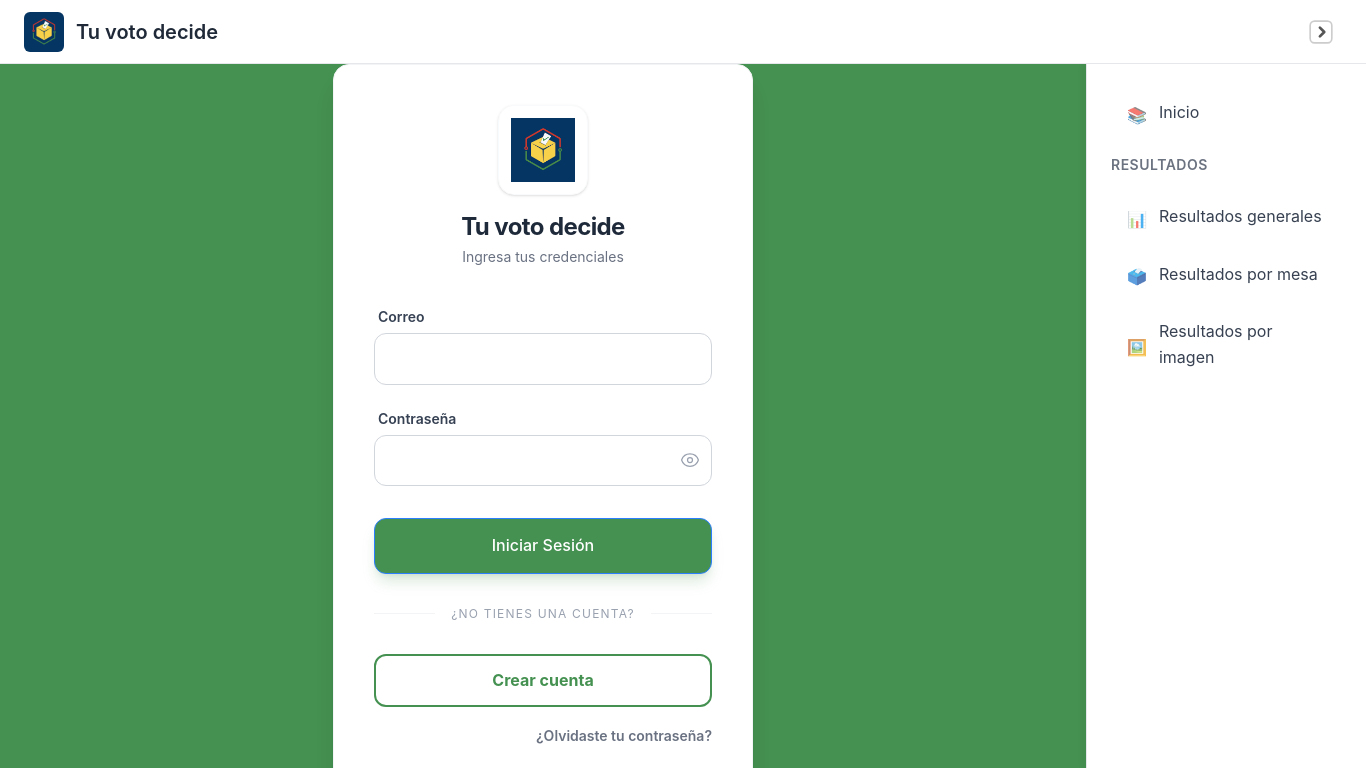
Test: Autenticación › Debería mostrar un error con credenciales incorrectas
Type "usuario@incorrecto.com" into the field named "email" at (543, 359), box [374, 333, 712, 385]
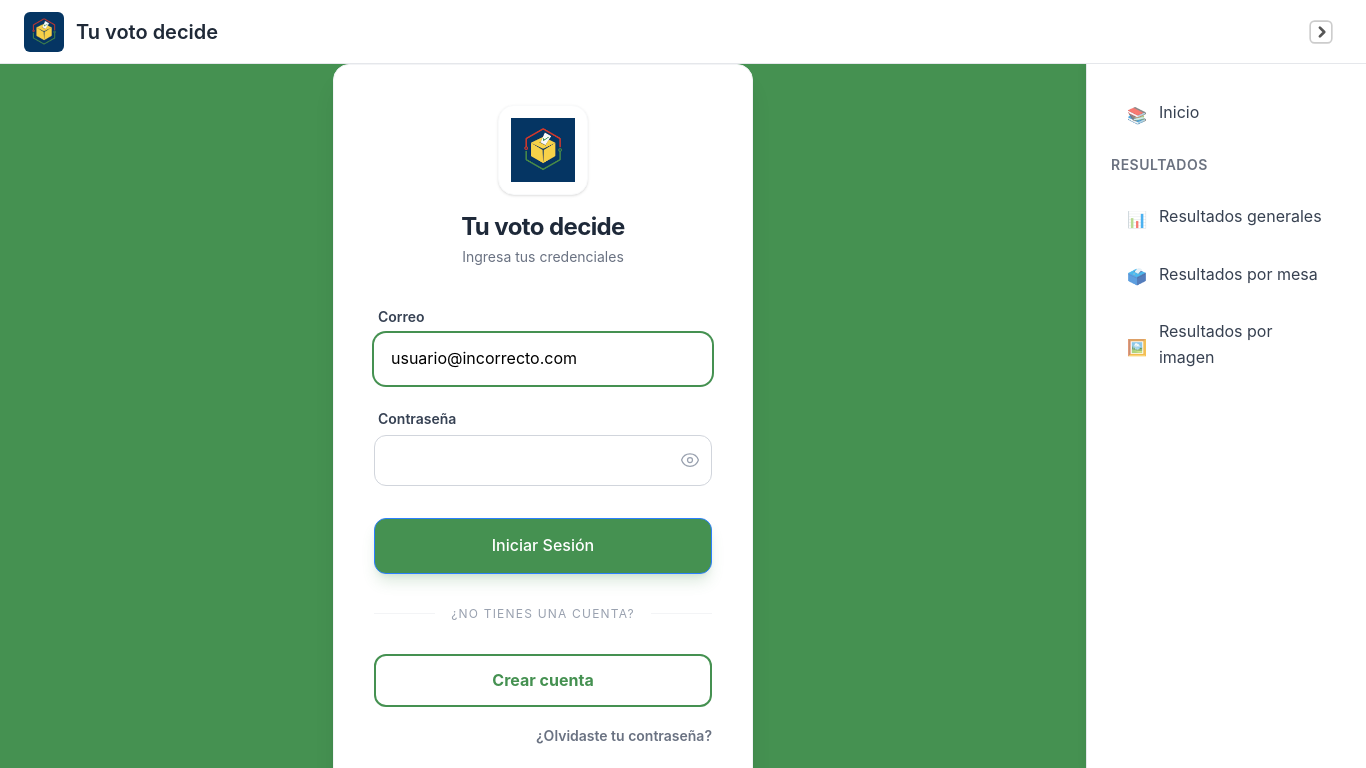
Type "123456" into the password field named "password" at (543, 461), box [374, 435, 712, 487]
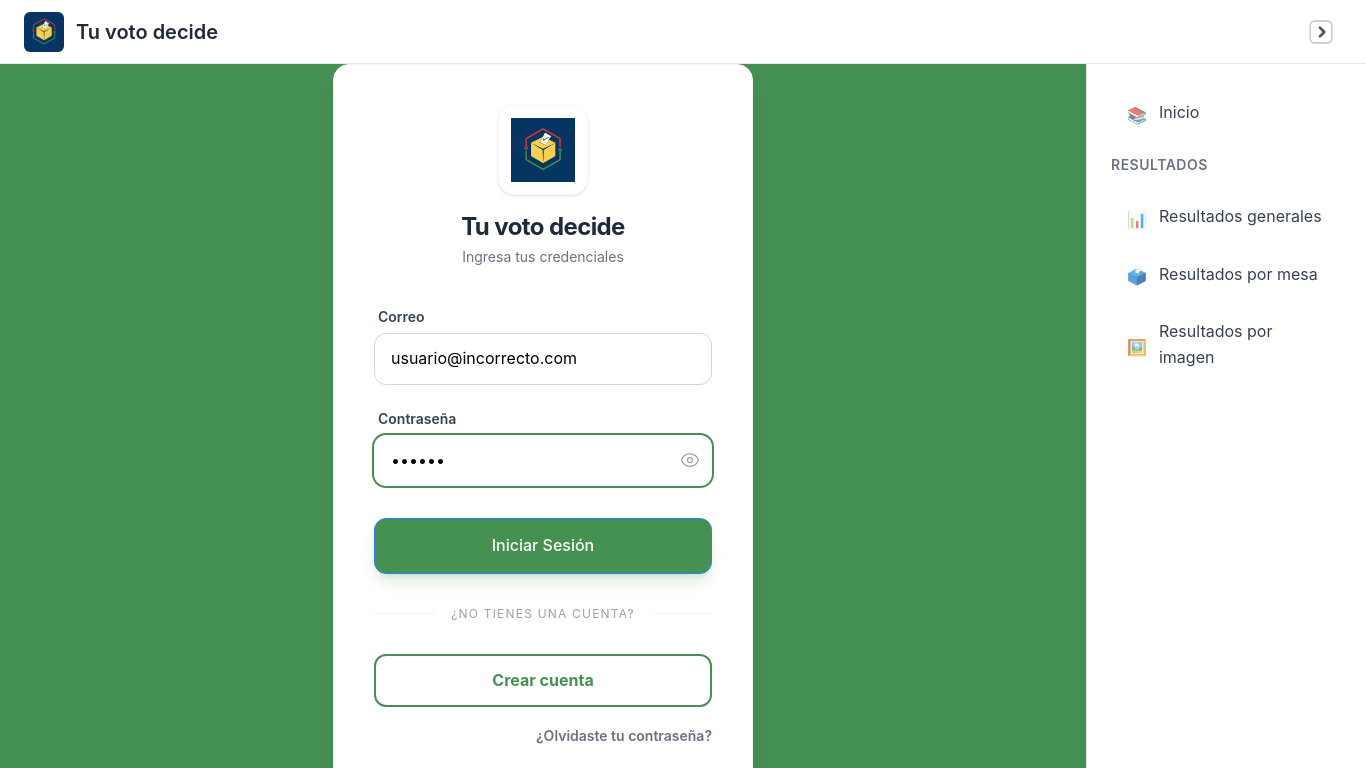
Click the submit button at (543, 546), box [374, 518, 712, 574]
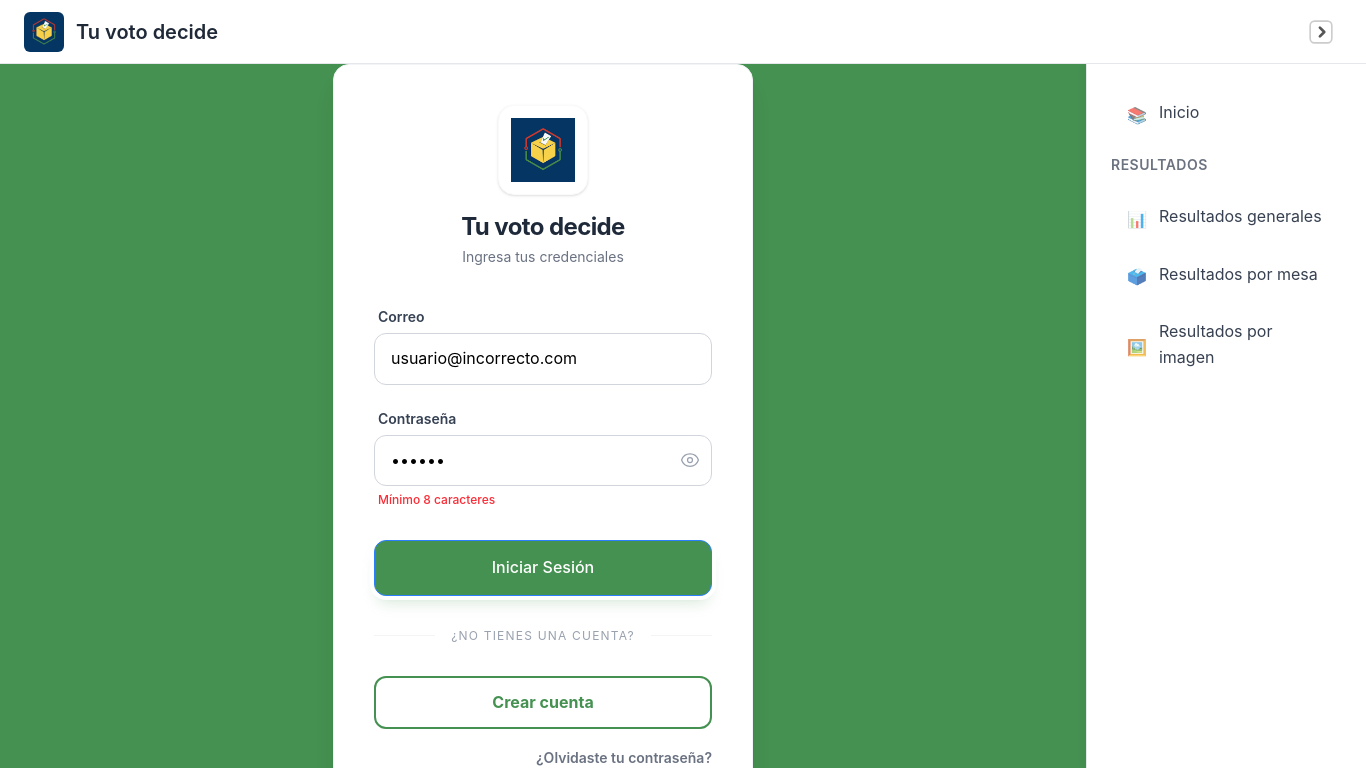
Check: the text "Mínimo 8 caracteres" is shown, box [378, 492, 495, 507]
